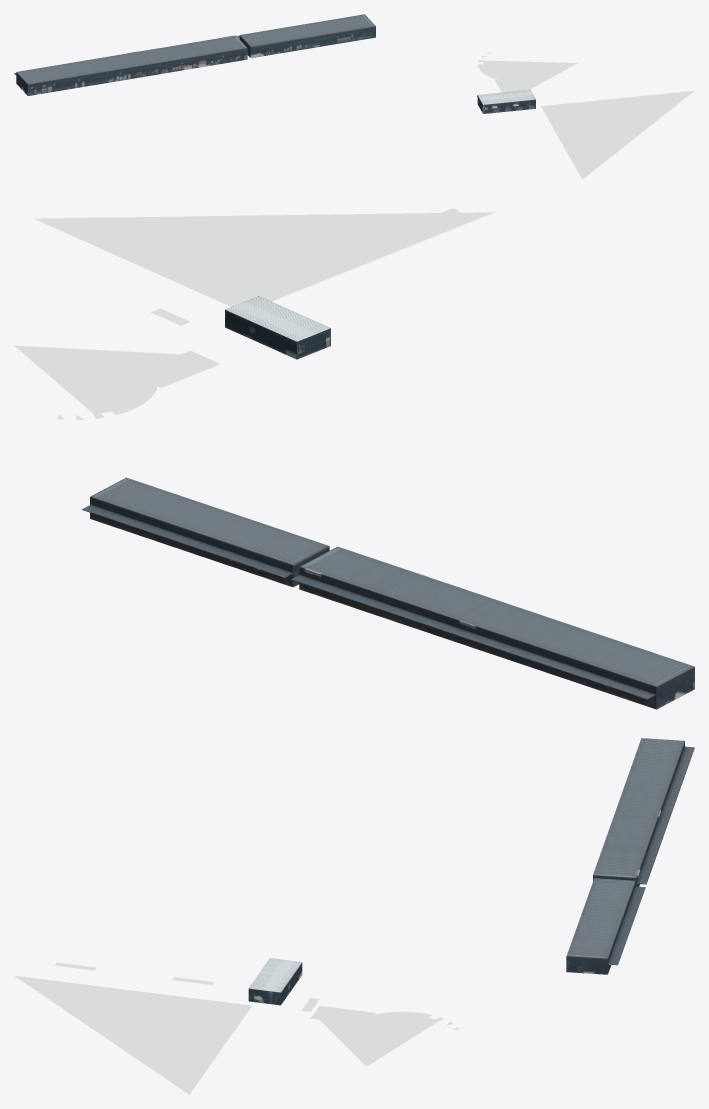
3 views of the same model, one above another, from view 1: azimuth 30°, elevation 25°; view 2: azimuth 150°, elevation 25°; view 3: azimuth 270°, elevation 25° (orthographic). The views are drawn at different scales.
Visible parts, largest first — view 1: Buildings_建物パビリオン; view 2: Buildings_建物パビリオン; view 3: Buildings_建物パビリオン.
Part boxes in pixels (<box>): Buildings_建物パビリオン: <box>14,14,694,179</box>; Buildings_建物パビリオン: <box>14,208,694,709</box>; Buildings_建物パビリオン: <box>14,738,694,1094</box>.
Size of the model in its own units: 237 by 7.67 by 200.
Materials: 4 (3 with a texture image).
